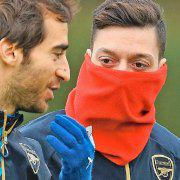NONE: (5, 19, 74, 115)
OK: (88, 39, 158, 109)
